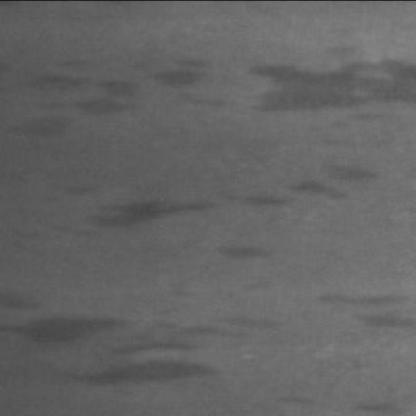inclusion: (6, 35, 410, 127), (77, 154, 377, 229), (0, 308, 256, 385), (310, 285, 410, 329), (206, 235, 268, 262)
